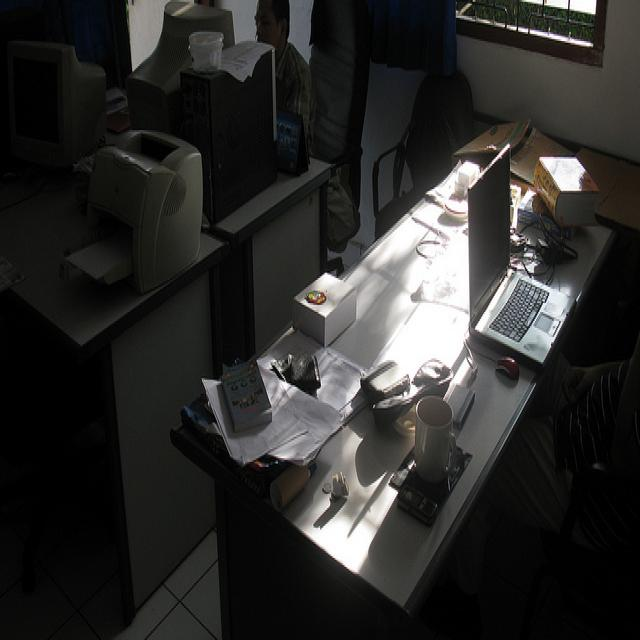Cup: (410, 357, 457, 520), (179, 13, 226, 91)
People: (452, 315, 640, 640), (247, 0, 301, 142)
Table: (174, 122, 640, 640), (0, 153, 206, 619)
chair: (298, 0, 371, 253)
